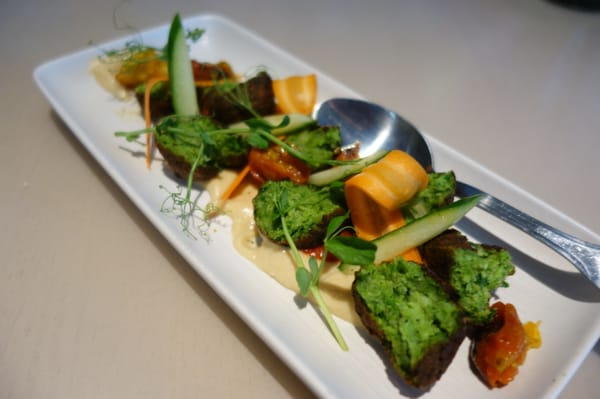curry: (352, 258, 465, 392), (253, 180, 346, 247), (448, 244, 515, 327), (401, 170, 458, 222)
sushi: (43, 9, 598, 395)
